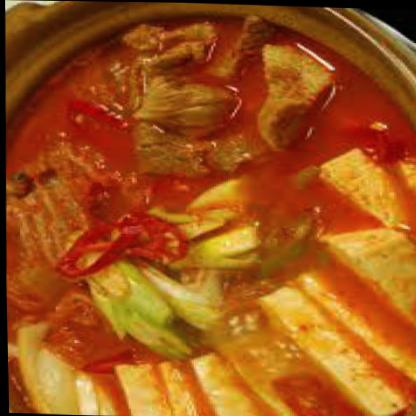Kimchi: (0, 8, 415, 415)
